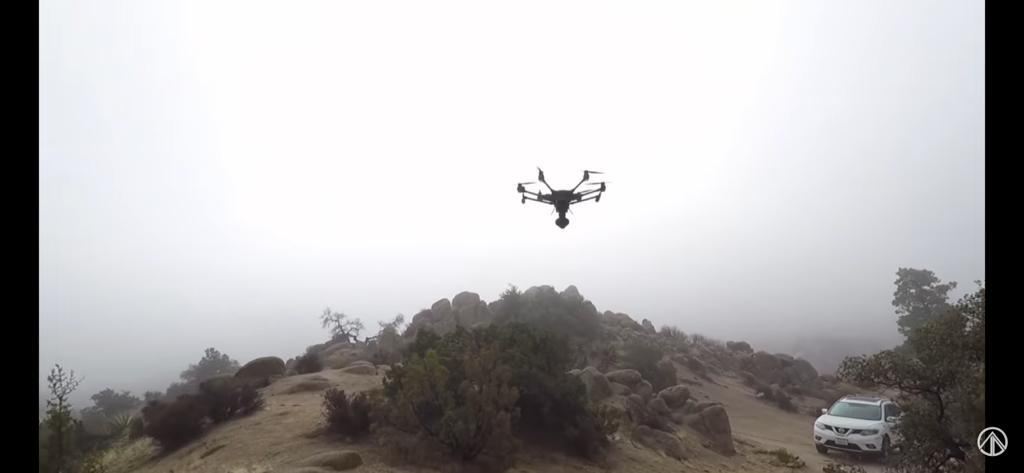drone_other: (514, 162, 610, 229)
